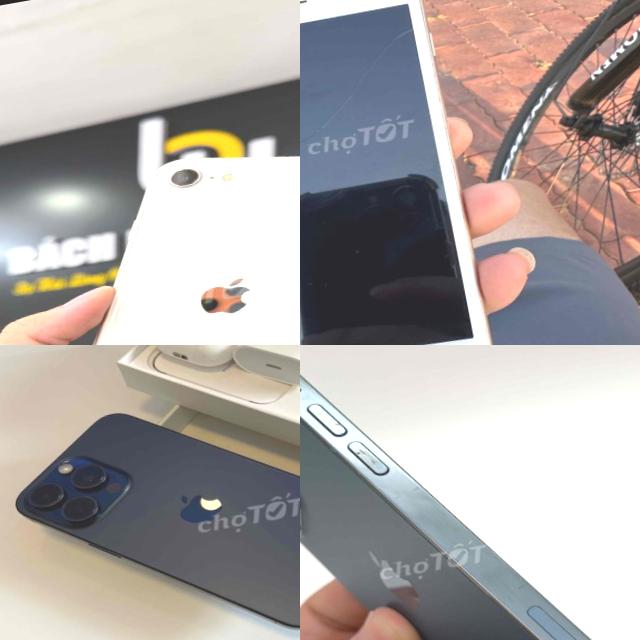scratch: (187, 276, 253, 322)
screen_defect: (300, 24, 421, 150)
